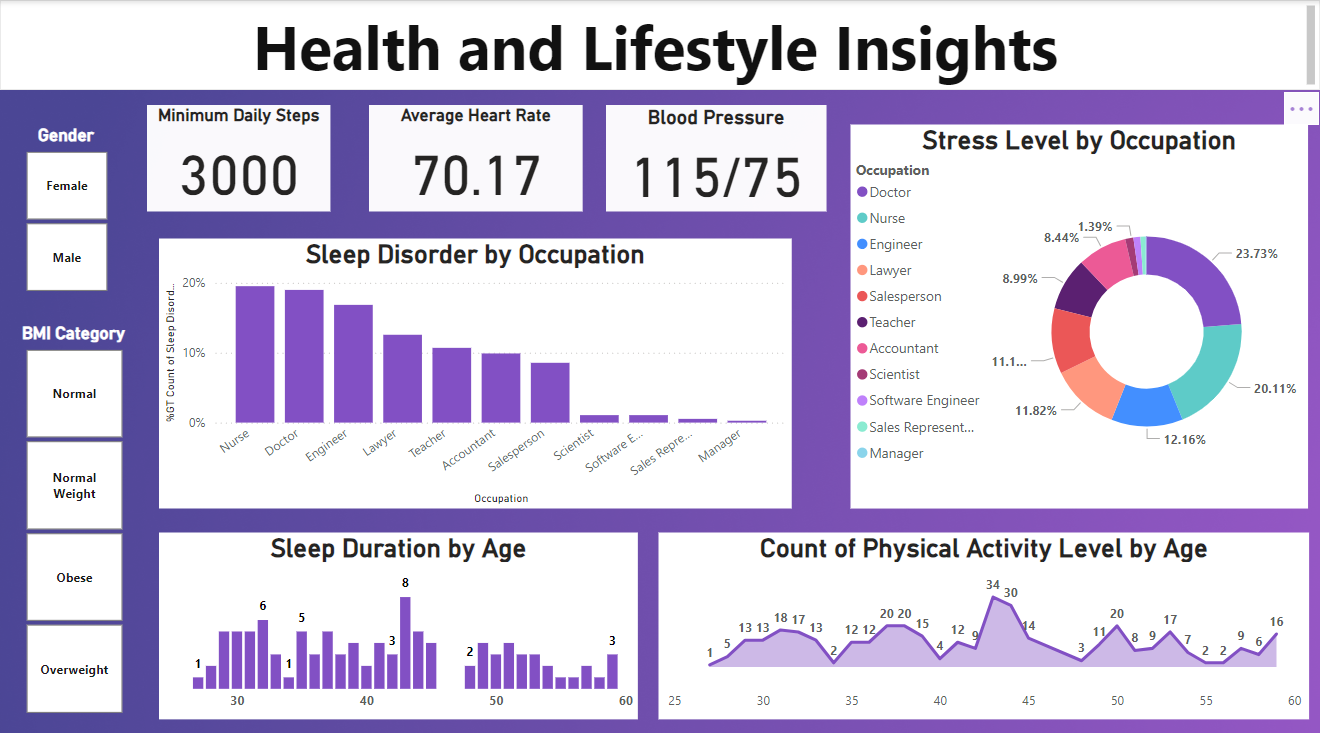

Layout of this report page (visuals, bound fields, positions):
{"tool":"powerbi","page":{"name":"health and life styles","canvas":[1280,720],"ordinal":0},"visuals":[{"type":"columnChart","title":"Sleep Duration by Age","fields":{"Y":["Count(Sleep_health_and_lifestyle_dataset.Sleep Duration)"],"Category":["Sleep_health_and_lifestyle_dataset.Age"]},"box":[153.8,516.5,464.7,181.4],"z":0},{"type":"donutChart","title":"Stress Level by Occupation","fields":{"Category":["Sleep_health_and_lifestyle_dataset.Occupation"],"Y":["Sum(Sleep_health_and_lifestyle_dataset.Stress Level)"]},"box":[825.8,121.4,443.7,372.4],"z":1000},{"type":"stackedAreaChart","fields":{"Category":["Sleep_health_and_lifestyle_dataset.Age"],"Y":["CountNonNull(Sleep_health_and_lifestyle_dataset.Physical Activity Level)"]},"box":[639.6,516.5,631.5,181.4],"z":2000},{"type":"card","title":"Minimum Daily Steps","fields":{"Values":["Min(Sleep_health_and_lifestyle_dataset.Daily Steps)"]},"box":[142.5,102,178.1,103.6],"z":3000},{"type":"card","title":"Blood Pressure","fields":{"Values":["Min(Sleep_health_and_lifestyle_dataset.Blood Pressure)"]},"box":[587.8,102,213.7,103.6],"z":4000},{"type":"card","title":"Average Heart Rate","fields":{"Values":["Avg(Sleep_health_and_lifestyle_dataset.Heart Rate)"]},"box":[357.8,102,207.3,103.6],"z":5000},{"type":"textbox","box":[0,0,1280.8,87.4],"z":6000},{"type":"slicer","title":"Gender","fields":{"Values":["Sleep_health_and_lifestyle_dataset.Gender"]},"box":[0,121.4,127.9,168.4],"z":7000},{"type":"slicer","title":"BMI Category","fields":{"Values":["Sleep_health_and_lifestyle_dataset.BMI Category"]},"box":[0,312.5,142.5,385.4],"z":9000},{"type":"columnChart","title":"Sleep Disorder by Occupation","fields":{"Category":["Sleep_health_and_lifestyle_dataset.Occupation"],"Y":["CountNonNull(Sleep_health_and_lifestyle_dataset.Sleep Disorder)"]},"box":[153.8,231.5,613.7,262.3],"z":9001}]}

Visuals, with their boxes in screenshot pixels (x1, y1, x2, y2), scaled from the page's 1280x720 canvas onto the 1320x733 screenshot:
"Sleep Duration by Age" columnChart: bbox(159, 526, 638, 711)
"Stress Level by Occupation" donutChart: bbox(852, 124, 1309, 503)
stackedAreaChart - Sleep_health_and_lifestyle_dataset.Age x CountNonNull(Sleep_health_and_lifestyle_dataset.Physical Activity Level): bbox(660, 526, 1311, 711)
"Minimum Daily Steps" card: bbox(147, 104, 331, 209)
"Blood Pressure" card: bbox(606, 104, 827, 209)
"Average Heart Rate" card: bbox(369, 104, 583, 209)
textbox: bbox(0, 0, 1319, 89)
"Gender" slicer: bbox(0, 124, 132, 295)
"BMI Category" slicer: bbox(0, 318, 147, 711)
"Sleep Disorder by Occupation" columnChart: bbox(159, 236, 791, 503)
